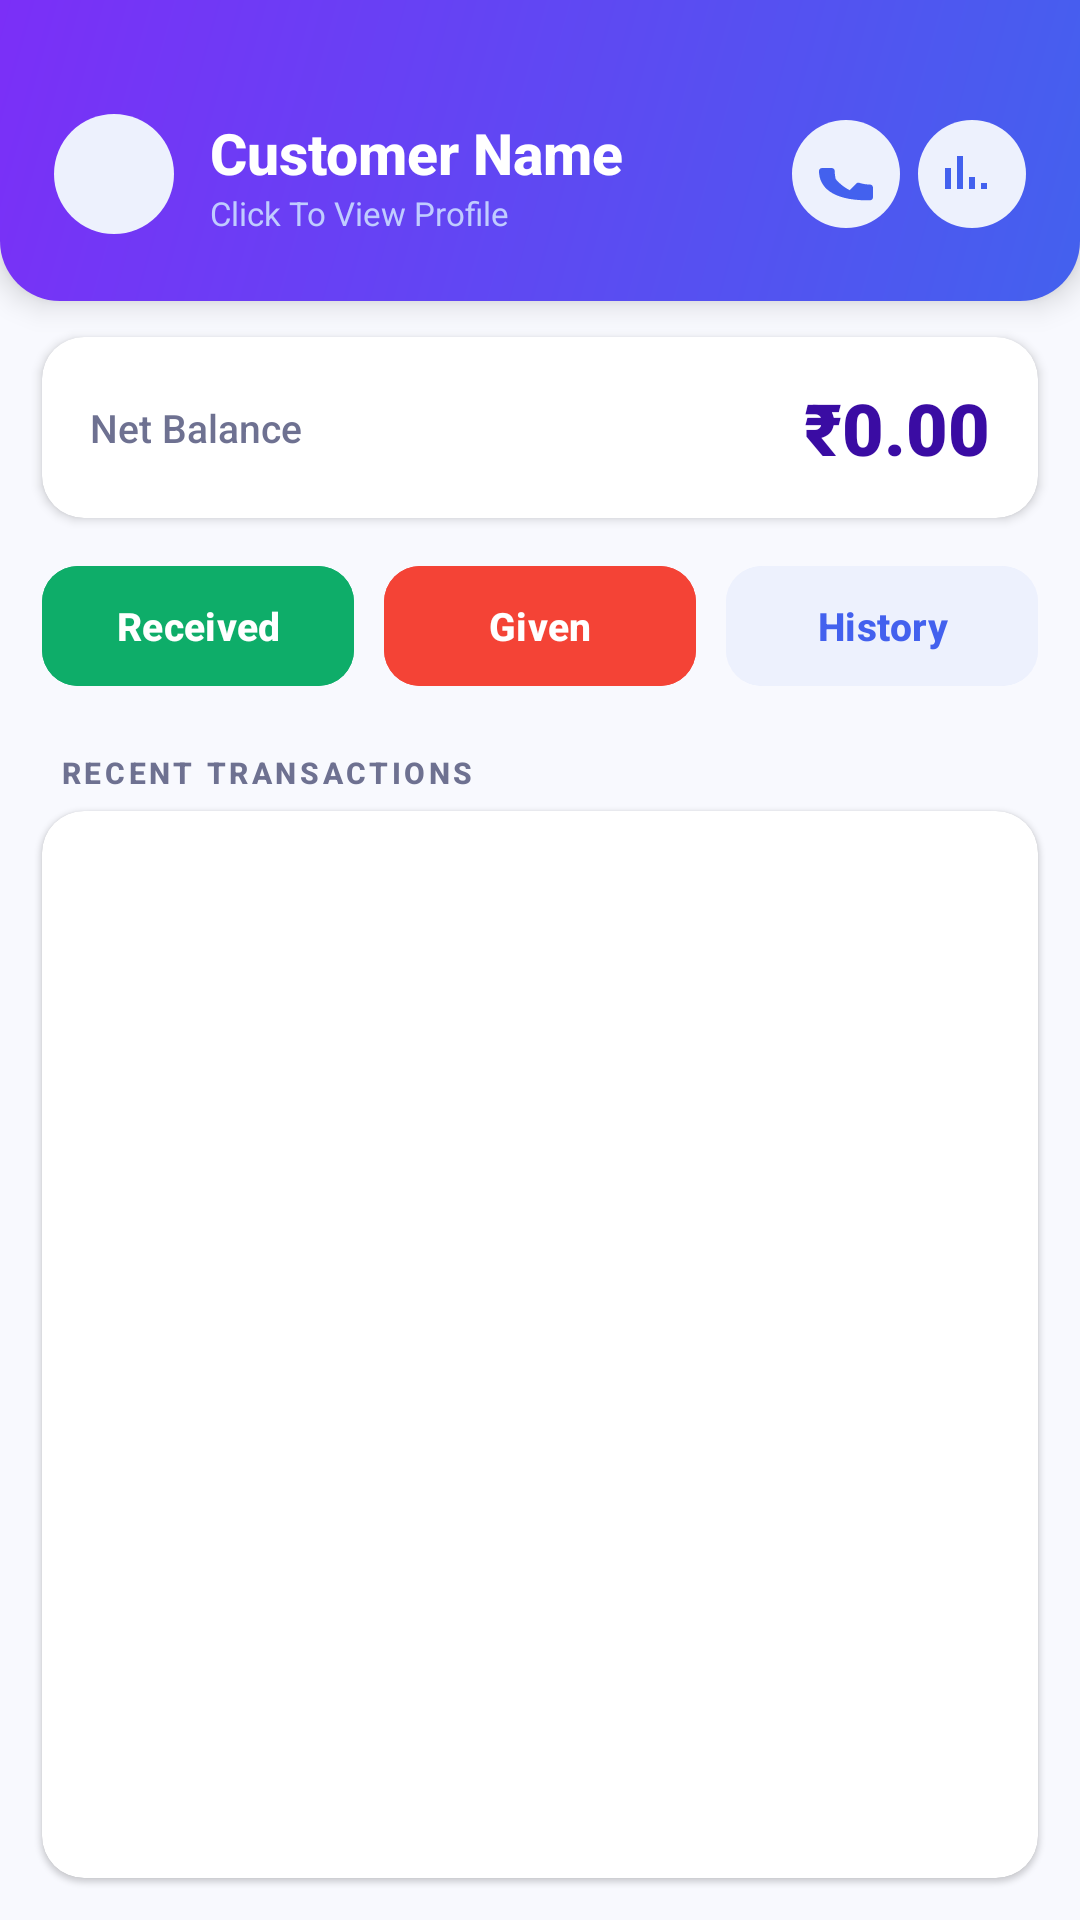

Icon bounding boxes for this 1080px x 1920px phone screenshot, format box=[x1, y1, x2, y2]:
Call: box=[792, 120, 900, 228]
Report: box=[918, 120, 1026, 228]
